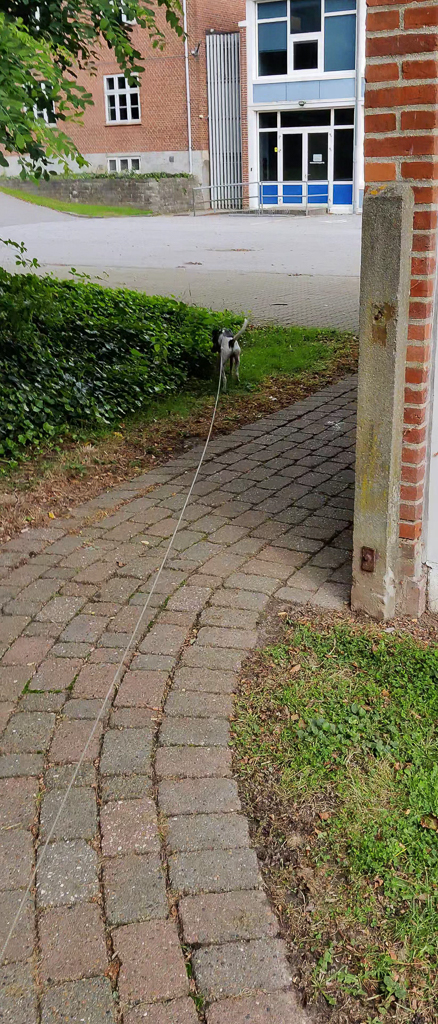Dog: (204, 310, 258, 398)
